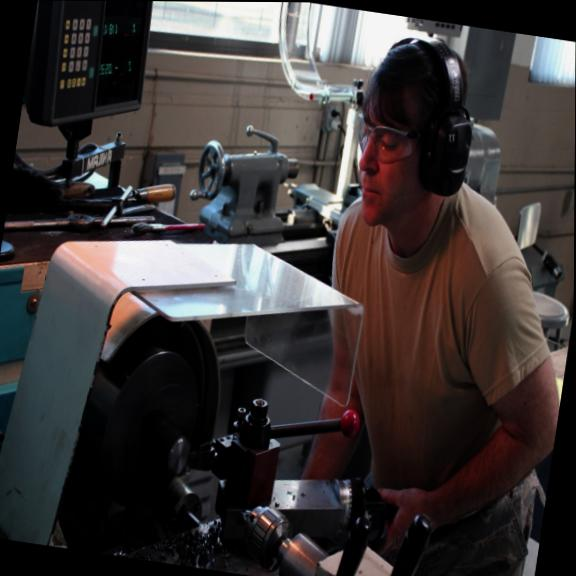no_safety_vest: (293, 158, 567, 520)
